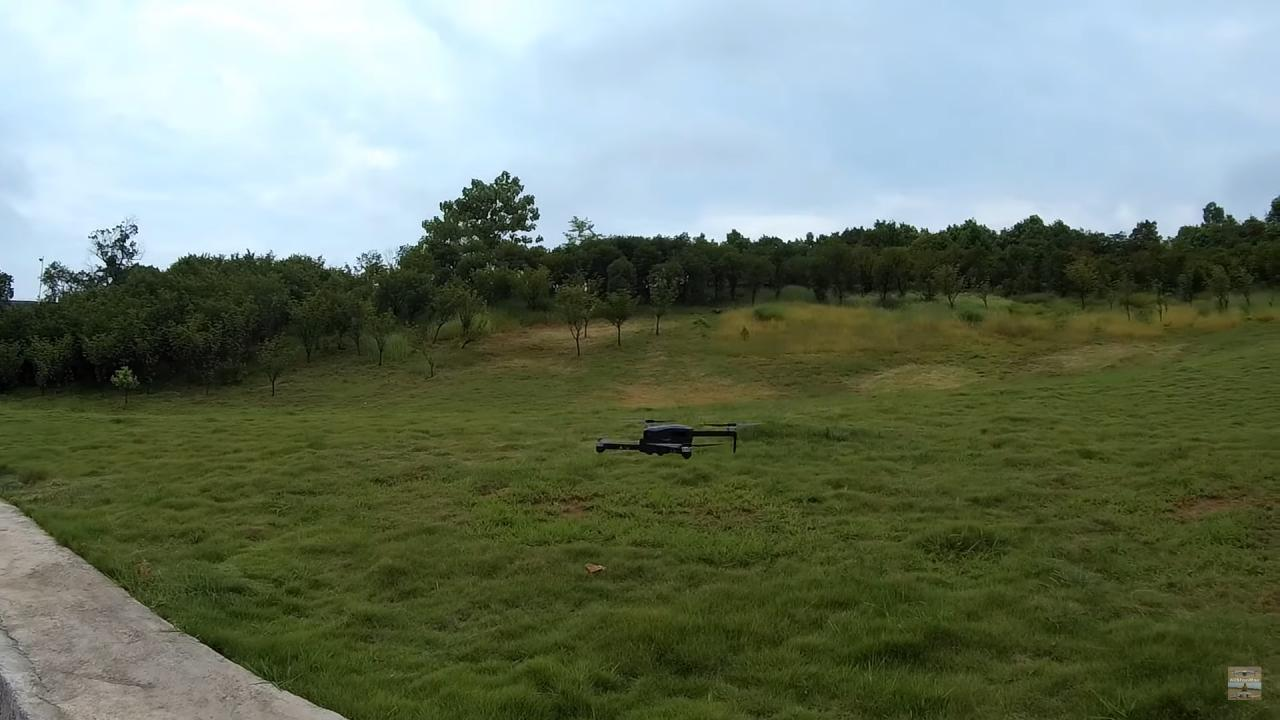Drone: (583, 403, 755, 474)
